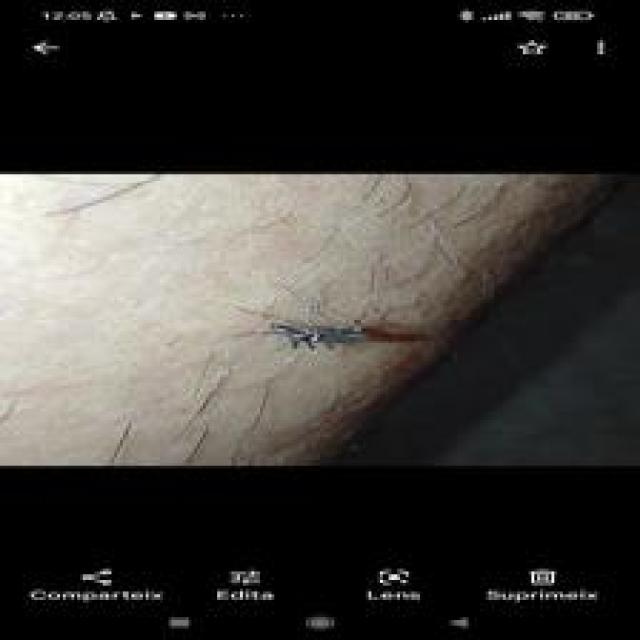Aedes albopictus: (270, 320, 367, 351)
